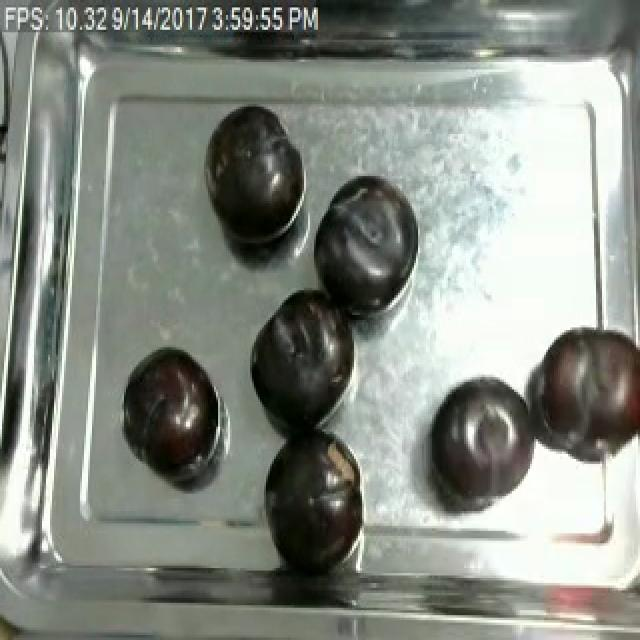Fruit: (422, 370, 542, 516), (528, 320, 640, 474), (308, 171, 420, 323), (246, 283, 358, 432), (200, 99, 308, 253), (260, 429, 368, 573), (120, 342, 220, 477)
